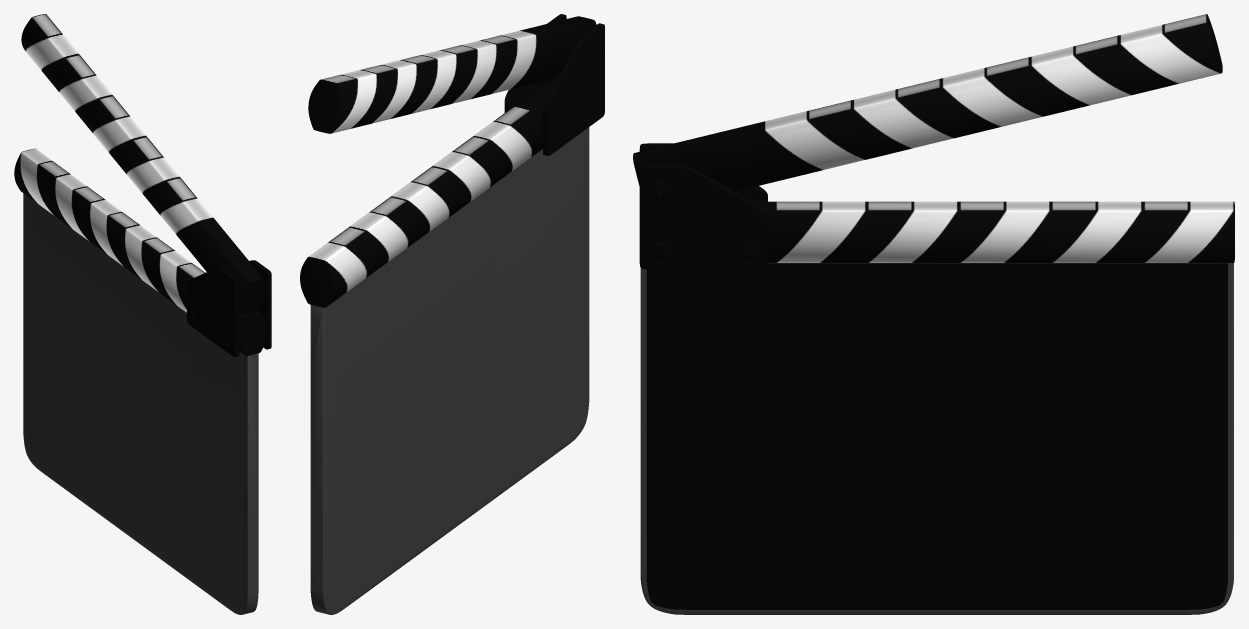
The model's file is event-film.glb.
3 views of the same model, side by side, from view 1: azimuth 30°, elevation 25°; view 2: azimuth 150°, elevation 25°; view 3: azimuth 270°, elevation 25° (orthographic). The views are drawn at different scales.
Parts seen in each view (by area): view 1: Cube.002, Cube.001, Cube, Cube.004, Cube.003; view 2: Cube.002, Cube, Cube.001, Cube.004, Cube.003; view 3: Cube.002, Cube.001, Cube, Cube.003.
Part boxes in pixels (left/top/right/bottom): Cube.002: left=23, top=193, right=258, bottom=614; Cube.001: left=21, top=14, right=267, bottom=314; Cube: left=14, top=148, right=267, bottom=355; Cube.004: left=187, top=268, right=239, bottom=357; Cube.003: left=249, top=260, right=271, bottom=349; Cube.002: left=310, top=127, right=589, bottom=614; Cube: left=300, top=78, right=557, bottom=307; Cube.001: left=308, top=16, right=596, bottom=133; Cube.004: left=543, top=23, right=604, bottom=155; Cube.003: left=504, top=14, right=566, bottom=112; Cube.002: left=640, top=263, right=1233, bottom=614; Cube.001: left=633, top=14, right=1222, bottom=191; Cube: left=751, top=201, right=1234, bottom=262; Cube.003: left=639, top=164, right=767, bottom=269.
Bounding box in the file's own units: 2.08 × 22.36 × 20.54.
4 materials, 1 textured.
